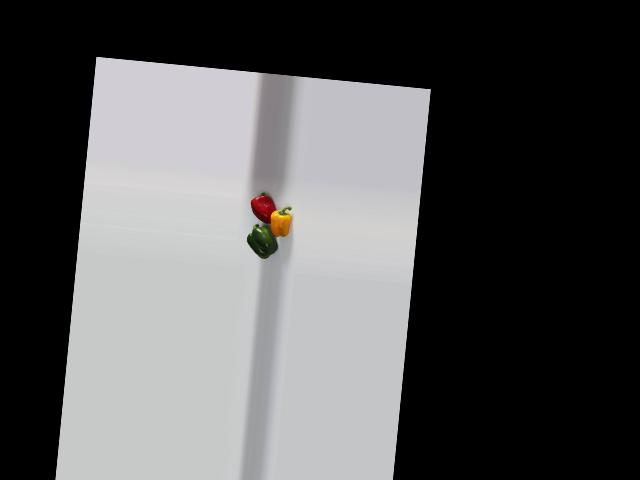bell_pepper: (264, 204, 295, 238)
